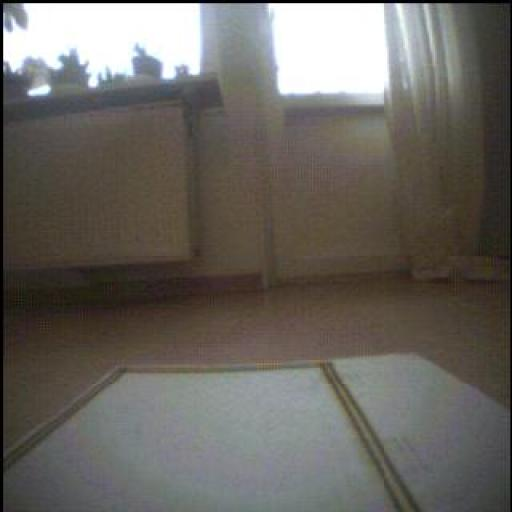Pad: (4, 358, 510, 512)
